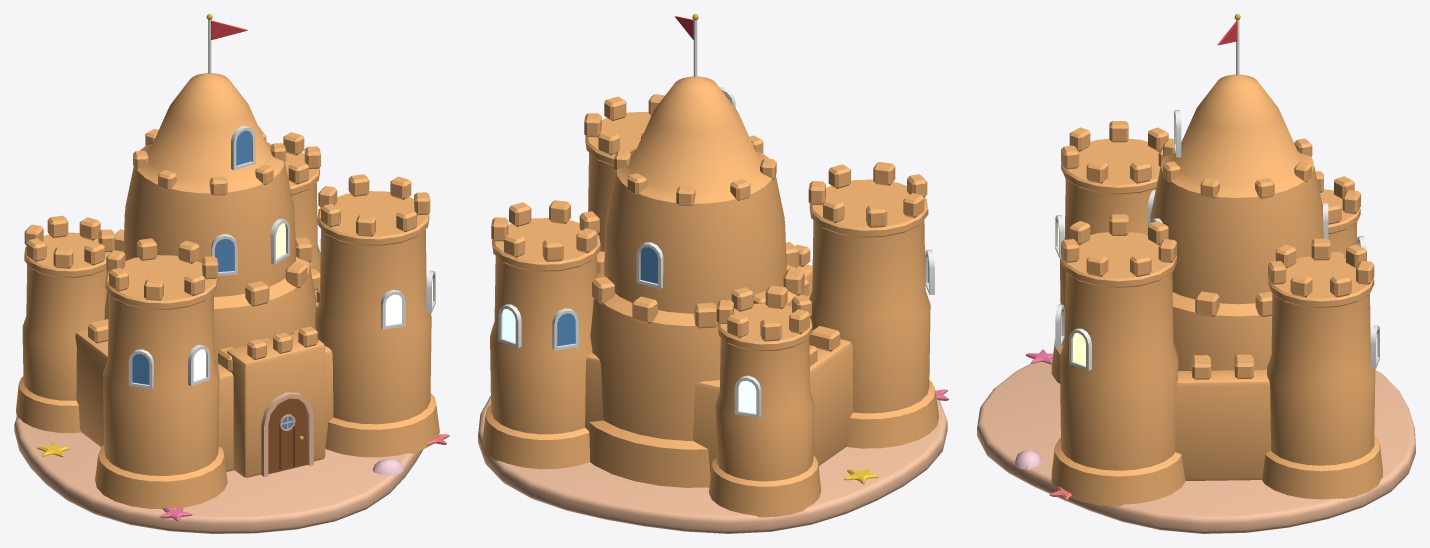
Rendered from castelo_areia.glb.
The picture shows the model from 3 angles, left to right: view 1: azimuth 30°, elevation 25°; view 2: azimuth 150°, elevation 25°; view 3: azimuth 270°, elevation 25°; orthographic projection. The views are drawn at different scales.
Visible parts, largest first — view 1: castelo_areia; view 2: castelo_areia; view 3: castelo_areia.
Boxes of the visible parts, x1,y1,x2,y2 form: castelo_areia: [14, 14, 449, 533]; castelo_areia: [478, 14, 948, 533]; castelo_areia: [977, 14, 1415, 533].
Size of the model in its own units: 12.66 by 13.49 by 12.59.
5 materials, 1 textured.
